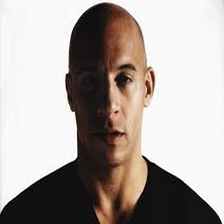no_mask: (73, 21, 146, 162)
